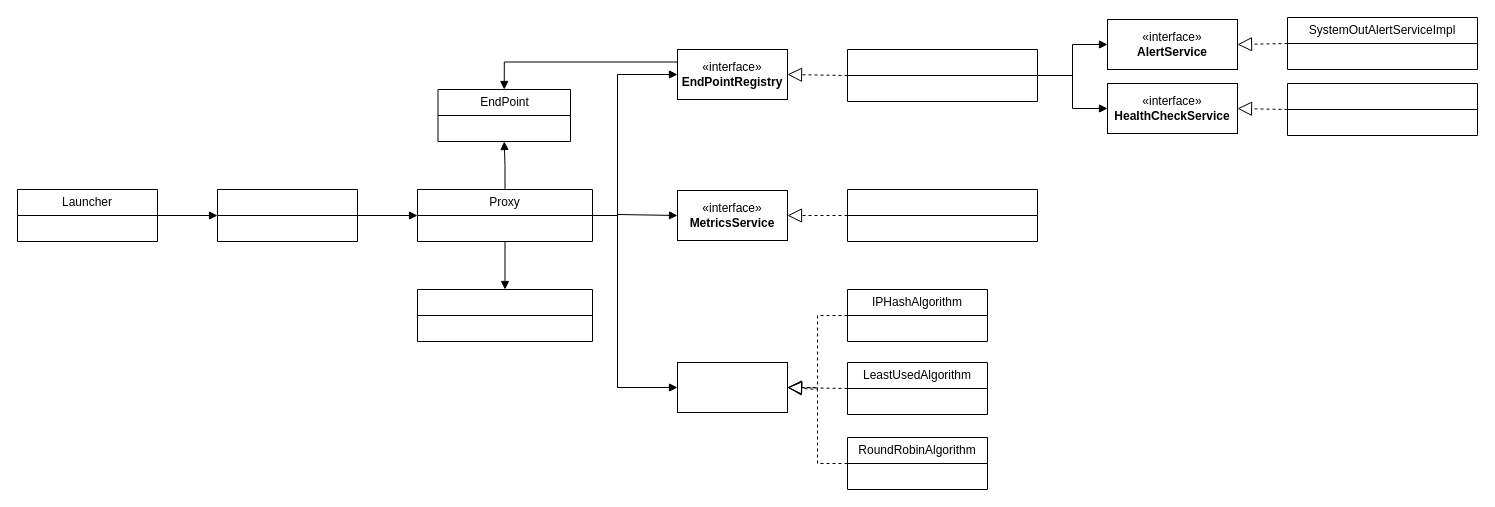
Image size: 1495x507. Some labels were removed from this diagram. The centre of each missing label's shape, as x and y in pixels:
ConnectHealthCheckServiceImpl: the point at 1382,109
InMemoryEndPointRegistryImpl: the point at 942,75
LoadBalancer: the point at 287,215
Pipe: the point at 504,315
SystemOutMetricsServiceImpl: the point at 942,215
«interface» Algorithm: the point at 732,387
